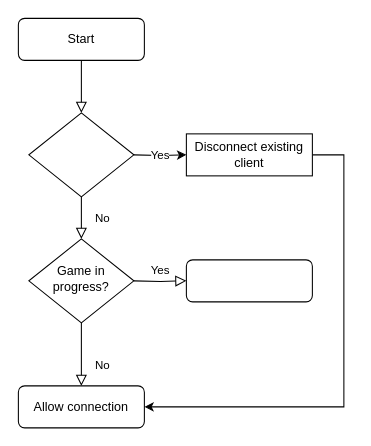
The diagram is 371 pixels wide and 446 high, and some of its shapes have lost their labels. The shapes that lost their labels are listed below. From the top down, each one's centre as x and y in pixels, then its label:
the point at 81,154: User already connected?
the point at 248,280: Refuse Connection
